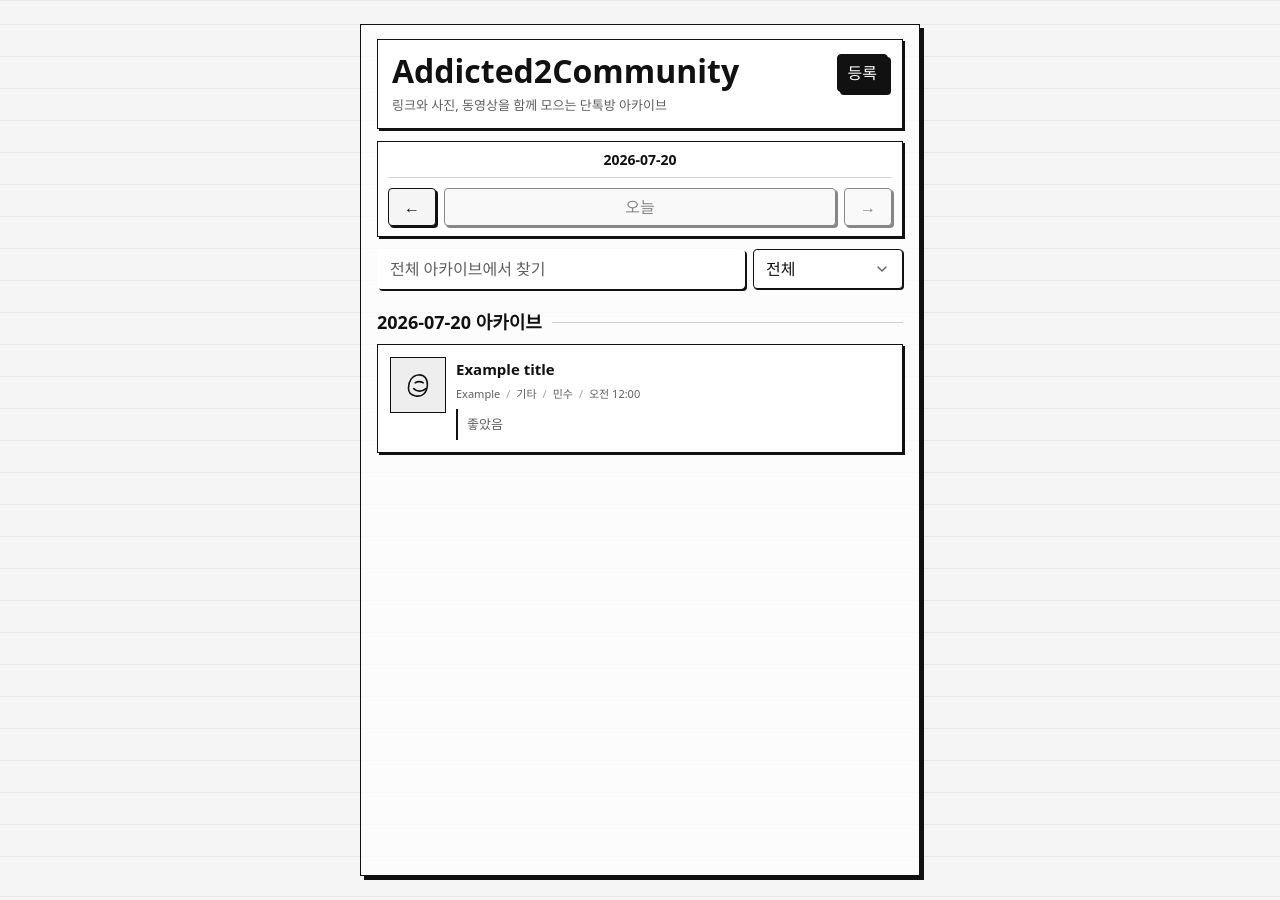
it: ArchiveApp › searches the entire archive without a date parameter
The width and height of the screenshot is (1280, 900).
In the search field named "검색어": (561, 269) [377,249,745,289], type "example"
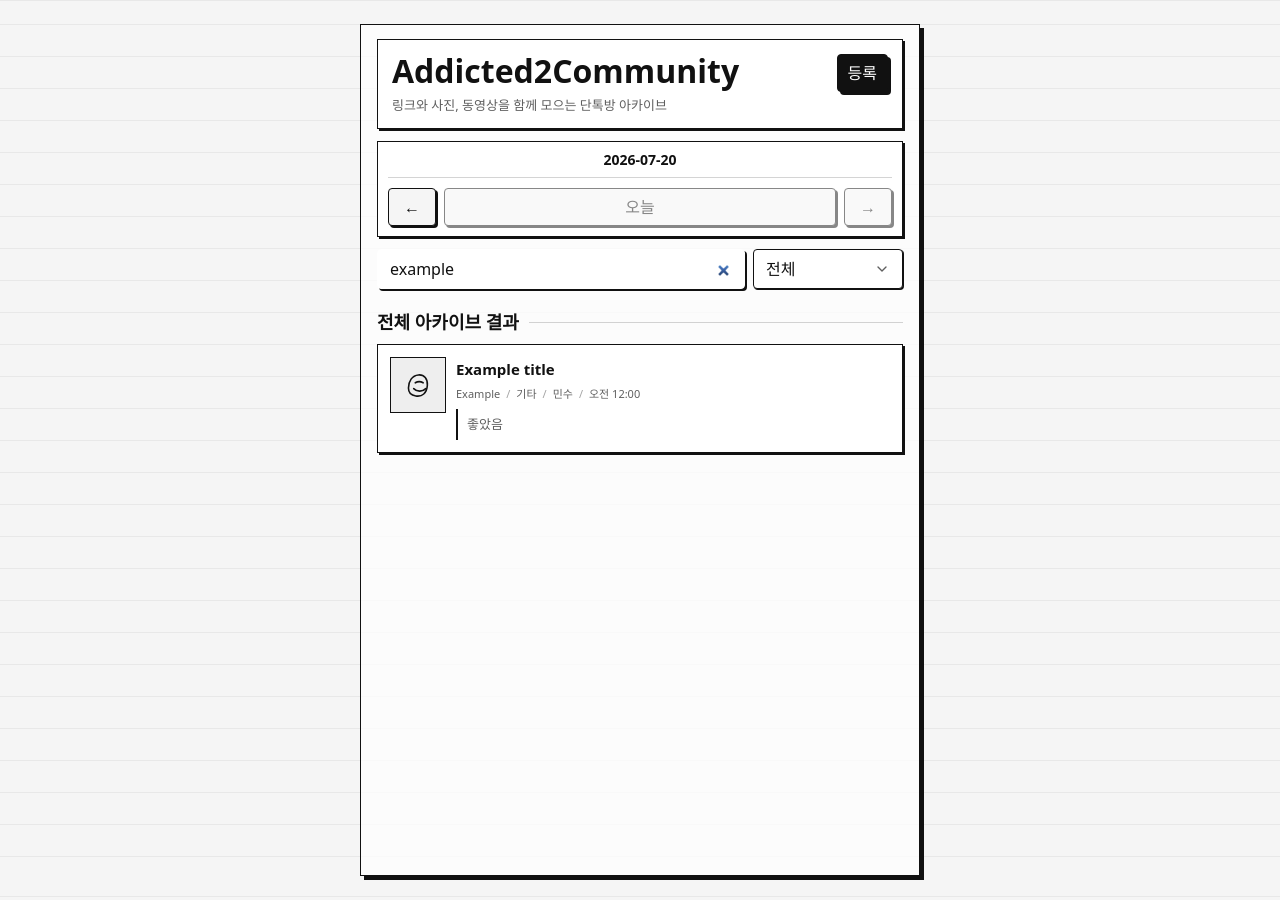
Check: the heading "전체 아카이브 결과" is shown, box [377,310,519,334]
